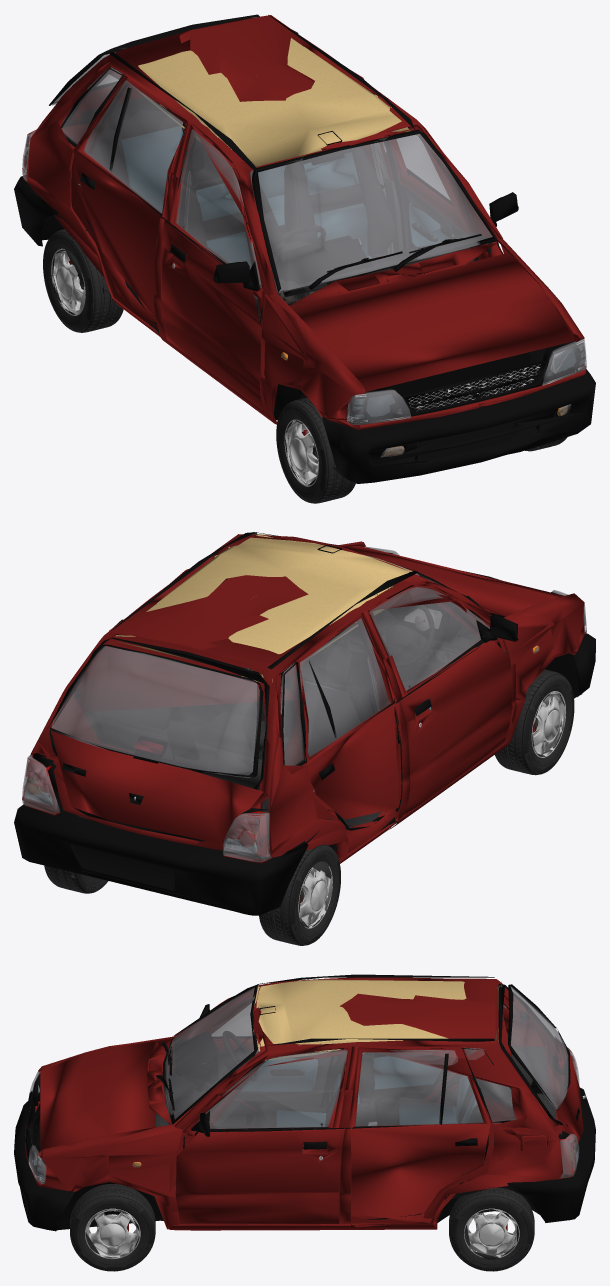
The picture shows the model from 3 angles, top to bottom: view 1: azimuth 30°, elevation 25°; view 2: azimuth 150°, elevation 25°; view 3: azimuth 270°, elevation 25°; orthographic projection. The views are drawn at different scales.
Visible parts, largest first — view 1: body_4, body_1 (×2), body_3 (×2), body_0 (×2), door_R, body_13, body_2, spin (×4), body_15, body_20, body_5, door_L (+3 smaller); view 2: body_4, body_1, body_3, body_0 (×2), body_2 (×2), door_R, body_15, body_13, spin (×5), body_5, body_16, body_23 (+2 smaller); view 3: body_4, body_1, body_3, door_L, body_2 (×2), body_0 (×2), spin (×4), body_13, door_R, body_15, body_5, body_20 (+3 smaller).
Part boxes in pixels (x1,y1,x2,y2): body_4: (23,15,585,429); body_1 (×2): (23,54,585,456); body_3 (×2): (22,54,586,461); body_0 (×2): (14,14,595,483); door_R: (153,173,288,421); body_13: (138,38,419,167); body_2: (24,19,586,429); spin (×4): (43,229,355,503); body_15: (92,100,474,298); body_20: (122,126,371,268); body_5: (72,30,584,436); door_L: (358,139,518,261); body_4: (24,534,586,862); body_1: (23,534,586,861); body_3: (22,533,586,861); body_0 (×2): (14,532,595,915); body_2 (×2): (22,534,585,863); door_R: (370,607,518,829); body_15: (84,627,474,827); body_13: (110,534,415,681); spin (×5): (44,669,574,945); body_5: (33,544,585,851); body_16: (332,626,475,698); body_23: (374,605,431,667); body_4: (25,977,583,1229); body_1: (29,987,579,1182); body_3: (28,984,579,1183); door_L: (169,1090,350,1230); body_2 (×2): (25,977,576,1230); body_0 (×2): (14,974,595,1231); spin (×4): (70,1184,534,1271); body_13: (253,979,499,1053); door_R: (173,1031,343,1127); body_15: (212,1032,546,1149); body_5: (31,984,572,1220); body_20: (277,1057,476,1126).
Size of the model in its own units: 1.64 by 1.39 by 3.33.
Materials: 21 (12 with a texture image).
